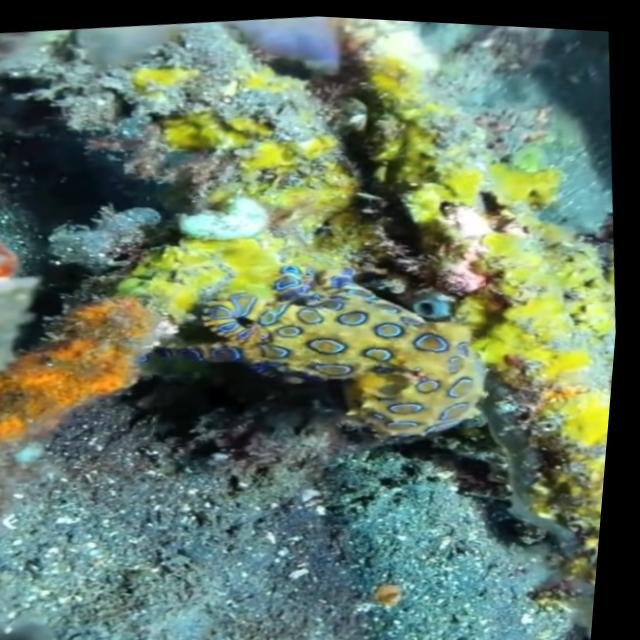blue_ringed_octopus: (142, 232, 507, 461)
